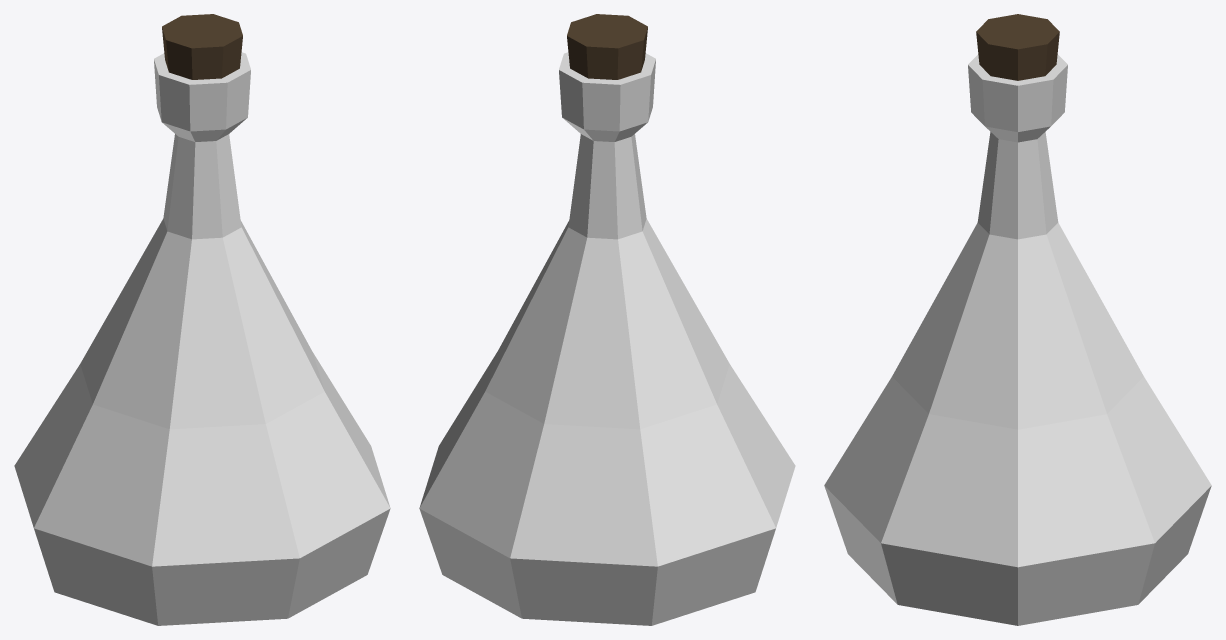
File: potion.fbx
3 renders of one model, left to right at view 1: azimuth 30°, elevation 25°; view 2: azimuth 150°, elevation 25°; view 3: azimuth 270°, elevation 25°, orthographic.
Visible parts, largest first — view 1: Cylinder; view 2: Cylinder; view 3: Cylinder.
Part boxes in pixels (<box>): Cylinder: <box>14,14,390,625</box>; Cylinder: <box>419,14,795,625</box>; Cylinder: <box>824,14,1211,625</box>.
Bounding box in the file's own units: 228 × 339 × 228.
